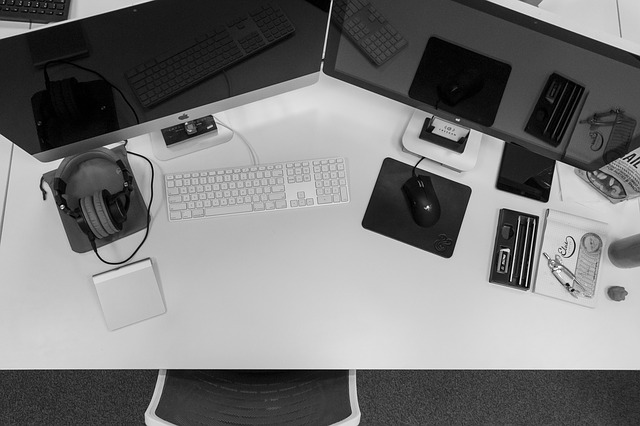headphones: (52, 147, 135, 241)
